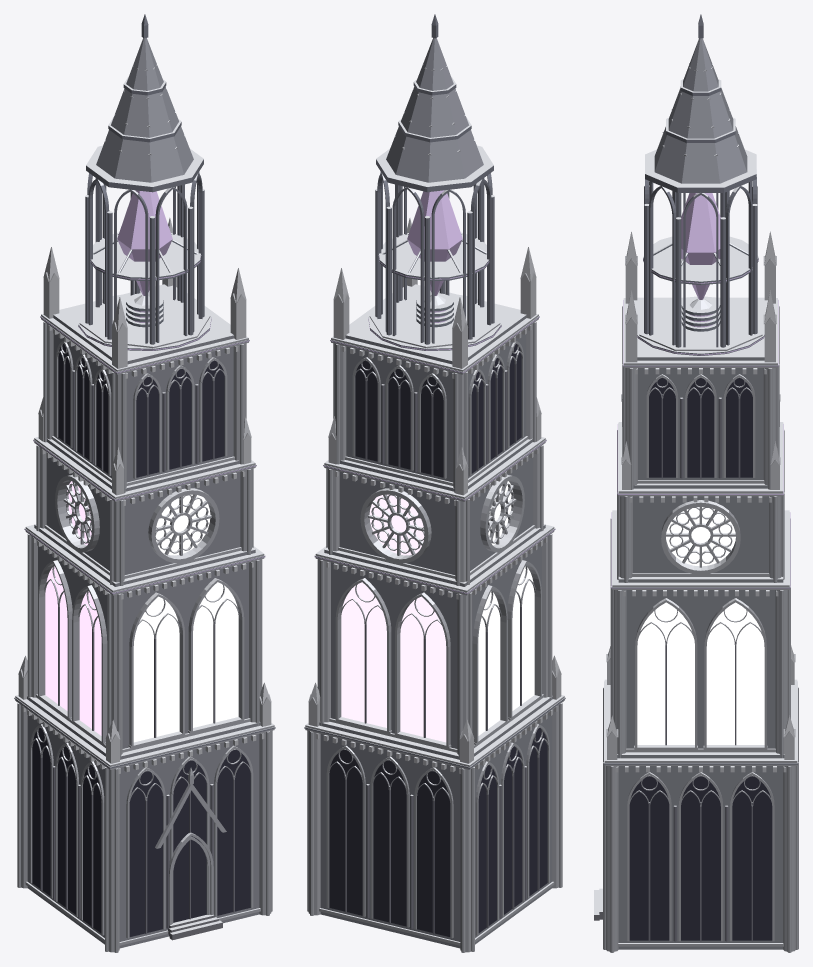
File: AR_Torre_Ressonancia.fbx
3 renders of one model, left to right at view 1: azimuth 30°, elevation 25°; view 2: azimuth 150°, elevation 25°; view 3: azimuth 270°, elevation 25°, orthographic.
Parts seen in each view (by area): view 1: AR_Torre_Ressonancia; view 2: AR_Torre_Ressonancia; view 3: AR_Torre_Ressonancia.
Part boxes in pixels (x1=…): AR_Torre_Ressonancia: x1=14, y1=14, x2=275, y2=952; AR_Torre_Ressonancia: x1=304, y1=14, x2=565, y2=952; AR_Torre_Ressonancia: x1=594, y1=14, x2=798, y2=952.
Bounding box in the file's own units: 15.24 × 77.06 × 15.93.
